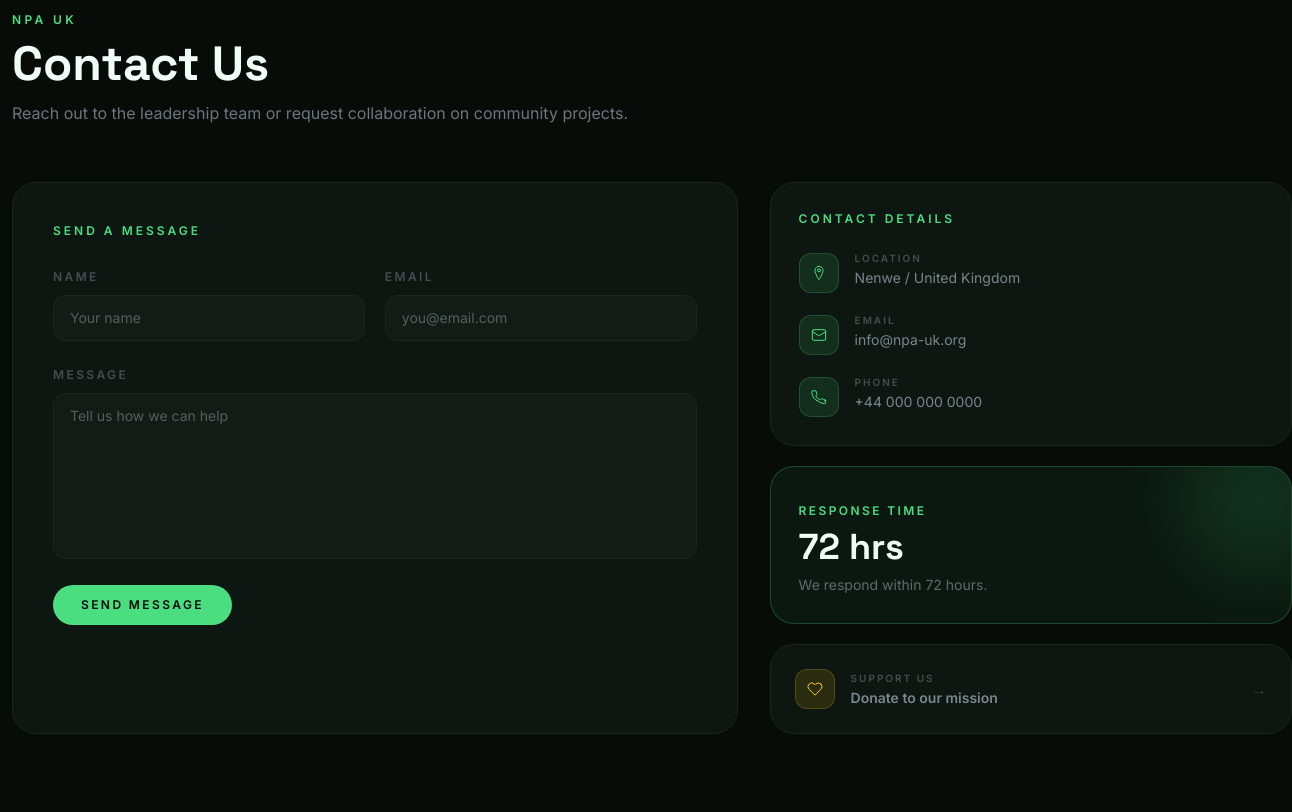
Test case: Contact form › disables submit button while sending
Type "Test" into the field with placeholder "Your name".
click(209, 318); type("Test")  # box [53,295,365,341]
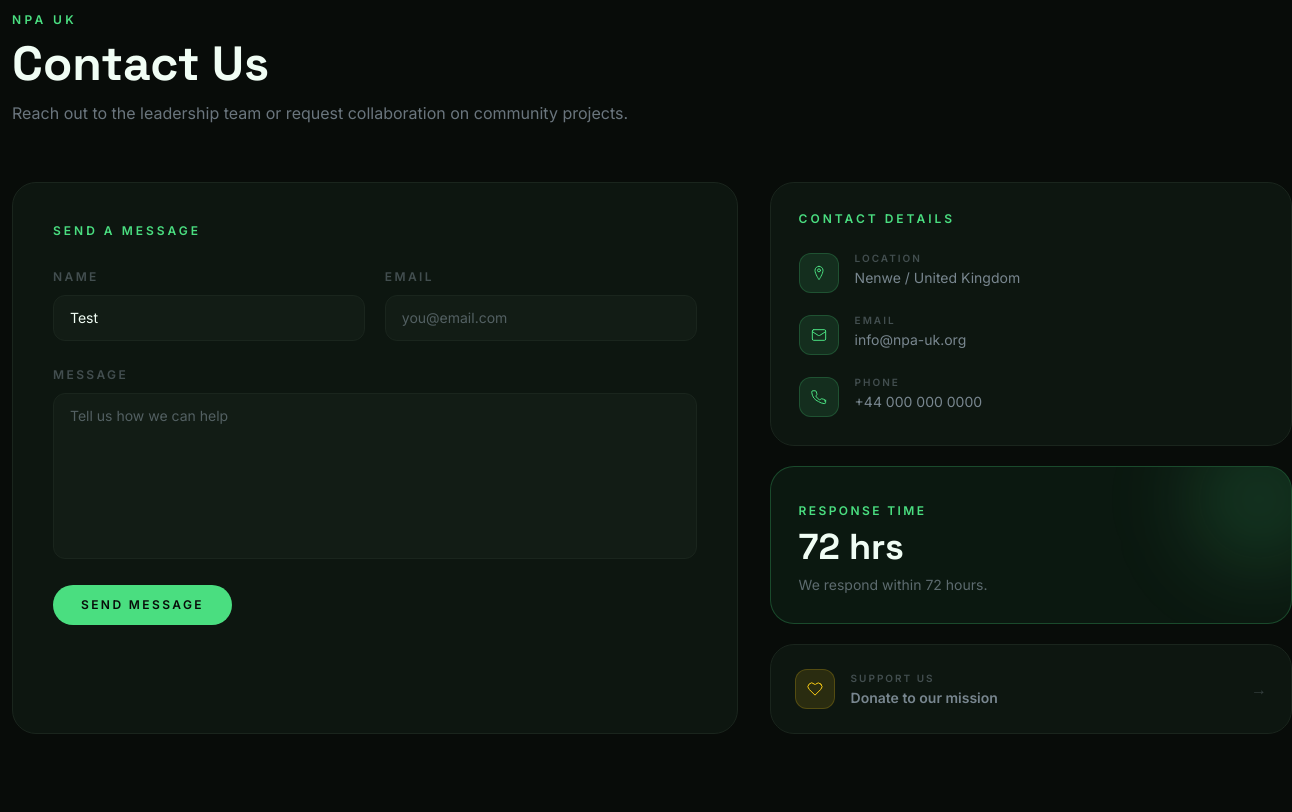
Type "test@test.com" into the field with placeholder "you@email.com".
click(541, 318); type("test@test.com")  # box [385,295,697,341]
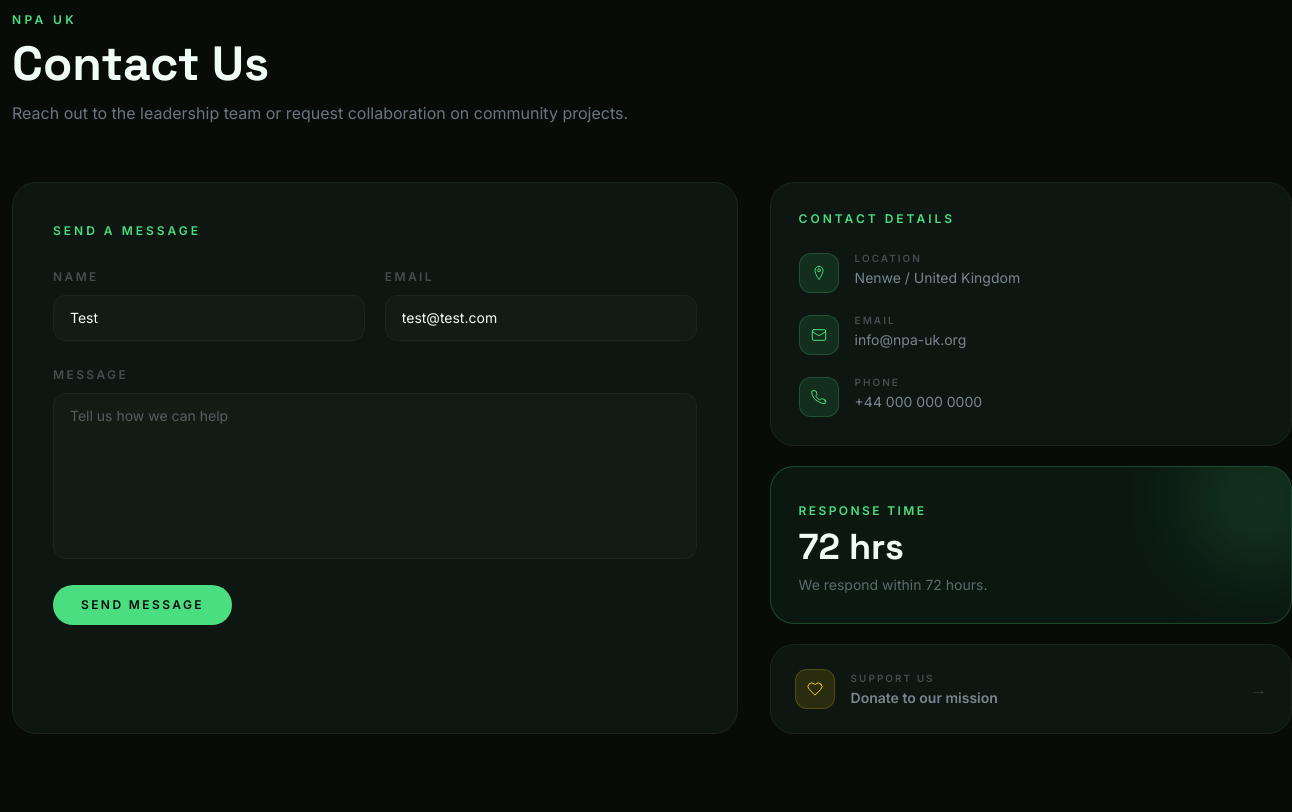
Type "Hello" into the text box with placeholder "Tell us how we can help".
click(375, 476); type("Hello")  # box [53,393,697,559]
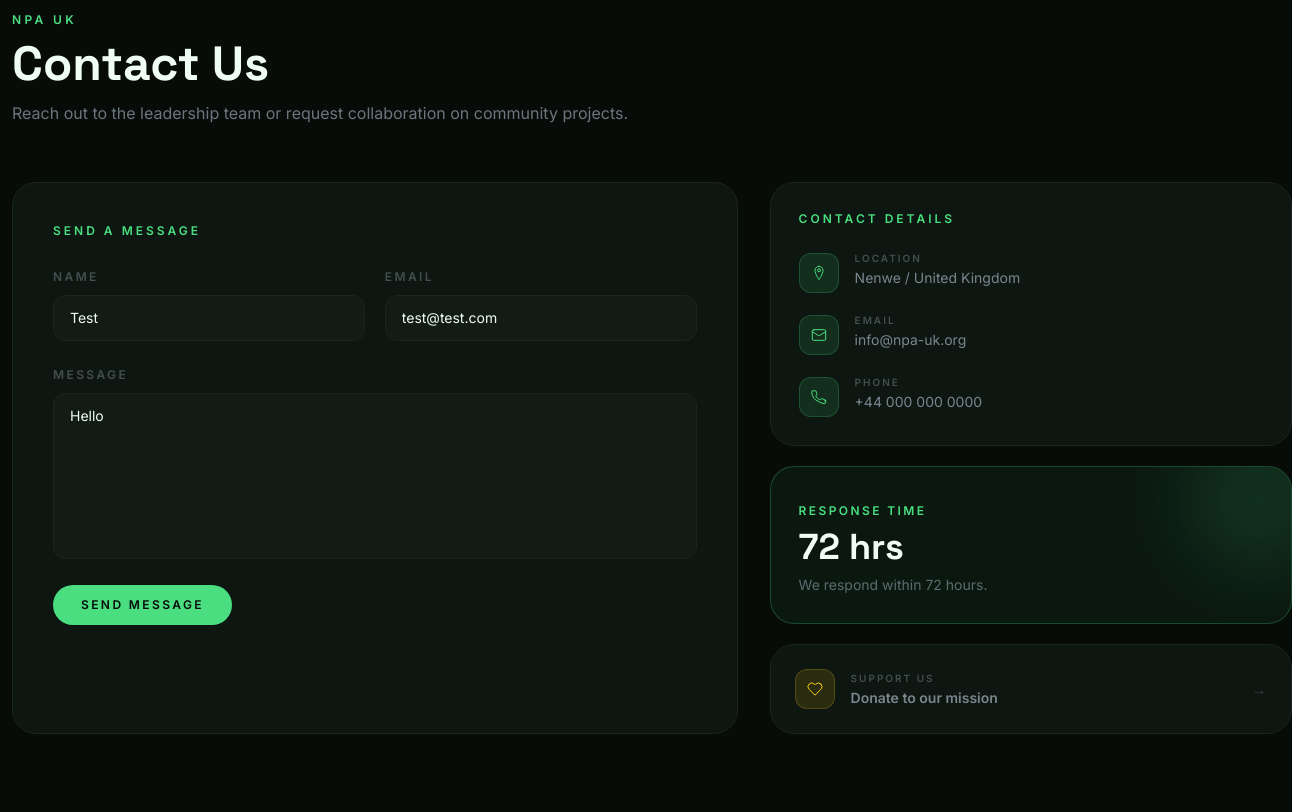
Click the button "Send Message".
click(142, 605)  # box [53,585,232,625]
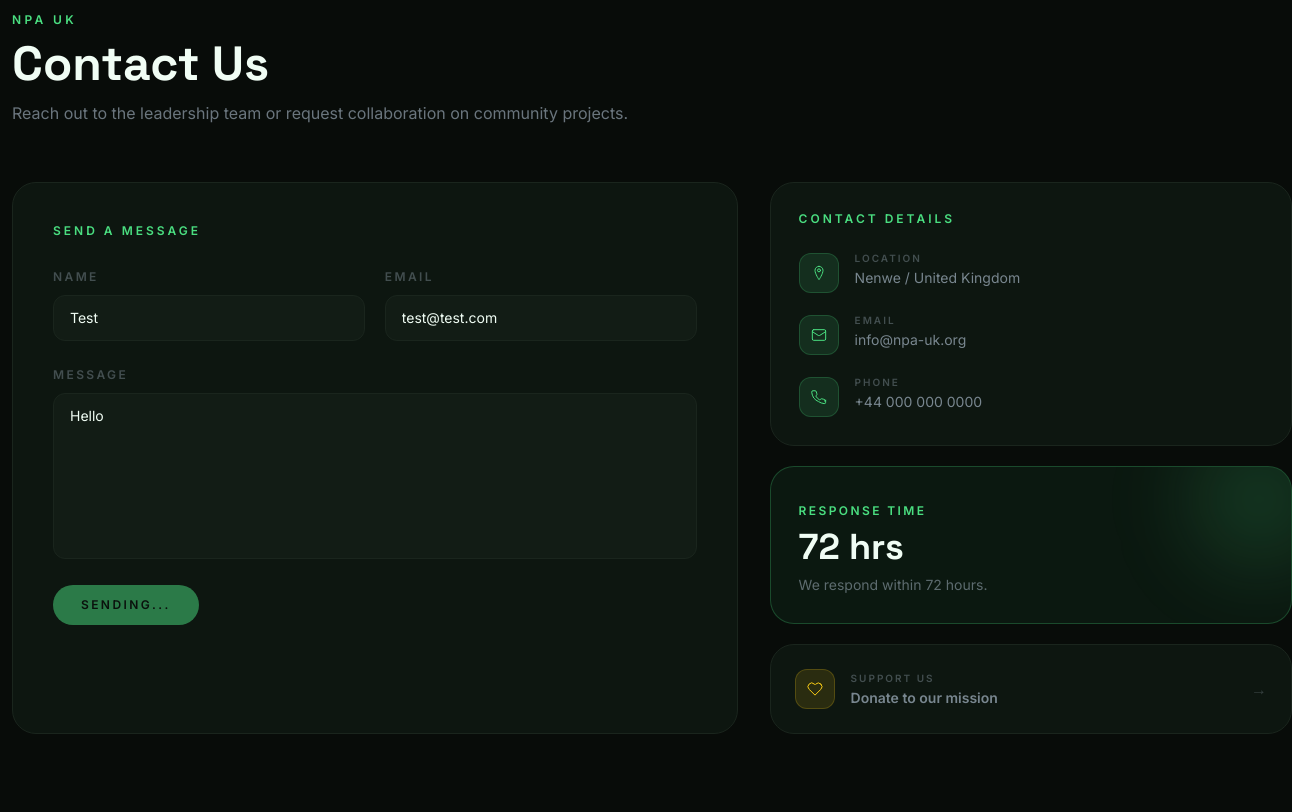
expect the button "Sending..." is disabled: met, box [53,585,199,625]
